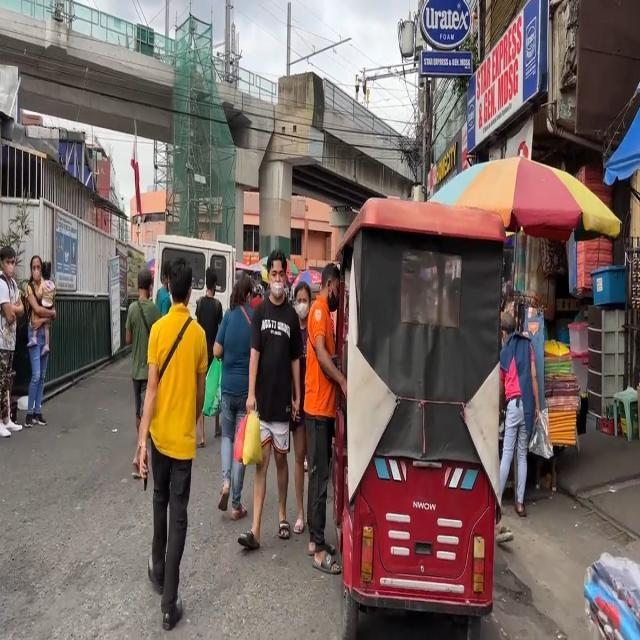hairnet: (325, 274, 342, 310), (269, 262, 285, 300)
